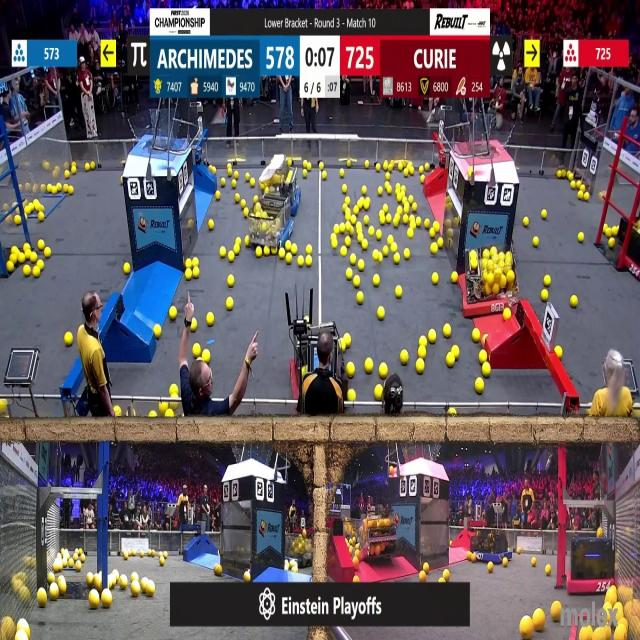ball_ground: (532, 611, 544, 632), (521, 618, 533, 638), (90, 592, 102, 609), (552, 602, 562, 620), (34, 588, 44, 606), (101, 592, 112, 608), (144, 582, 154, 597), (474, 379, 483, 394), (94, 574, 103, 589), (132, 584, 141, 598), (59, 581, 68, 595), (483, 362, 491, 377), (417, 359, 425, 374), (225, 296, 233, 310), (400, 350, 408, 364), (192, 344, 200, 358), (375, 385, 383, 399), (348, 362, 356, 376), (364, 358, 372, 372), (578, 629, 588, 640), (444, 324, 452, 337), (65, 334, 73, 347), (378, 307, 386, 320), (203, 350, 211, 363), (380, 363, 388, 376), (344, 335, 352, 348), (428, 331, 436, 344), (170, 308, 178, 320), (419, 347, 427, 359), (471, 331, 479, 343), (447, 354, 455, 366), (452, 346, 460, 358), (120, 580, 128, 592), (207, 313, 214, 326), (556, 346, 563, 359), (542, 276, 550, 287), (348, 389, 356, 400), (214, 564, 222, 575), (30, 252, 38, 263), (452, 273, 459, 285), (480, 351, 487, 363), (395, 286, 402, 298), (190, 318, 196, 332), (540, 289, 547, 301), (356, 291, 363, 303), (374, 275, 381, 287), (88, 572, 95, 584), (244, 571, 252, 581), (284, 253, 292, 263), (284, 242, 292, 252), (108, 575, 114, 588), (570, 295, 577, 306), (297, 255, 304, 266), (24, 267, 31, 278), (357, 261, 364, 272), (347, 269, 354, 280), (444, 569, 451, 580), (171, 384, 178, 395), (603, 223, 610, 234), (17, 252, 24, 263), (355, 222, 362, 233), (154, 325, 160, 337), (123, 264, 129, 276), (503, 309, 509, 321), (403, 248, 409, 260), (432, 274, 438, 286), (167, 410, 175, 419), (393, 215, 399, 227), (419, 570, 426, 580), (219, 247, 226, 257), (420, 337, 427, 347), (191, 269, 198, 279), (353, 277, 360, 287), (430, 244, 437, 254), (466, 552, 473, 562), (402, 204, 409, 214), (346, 222, 353, 232), (37, 212, 44, 222), (409, 214, 416, 224), (578, 233, 584, 244), (307, 255, 313, 266), (44, 247, 50, 258), (608, 238, 614, 249), (7, 263, 13, 274), (291, 243, 297, 254), (34, 268, 40, 279), (0, 398, 6, 409), (611, 225, 617, 236), (371, 250, 377, 261), (75, 561, 81, 572), (448, 410, 456, 418), (540, 210, 547, 219), (331, 223, 338, 232), (577, 182, 584, 191), (37, 262, 44, 271), (47, 573, 54, 582), (227, 276, 233, 286), (185, 270, 191, 280), (307, 245, 313, 255), (227, 252, 233, 262), (331, 239, 337, 249), (488, 562, 494, 572), (383, 246, 389, 256), (244, 237, 250, 247), (544, 564, 550, 574), (416, 218, 422, 228), (235, 244, 241, 254), (439, 239, 445, 249), (38, 240, 44, 250), (367, 225, 373, 235), (350, 254, 356, 264), (412, 203, 418, 213), (114, 408, 120, 418), (428, 230, 434, 240), (8, 254, 16, 261), (244, 175, 251, 183), (357, 236, 364, 244), (362, 241, 368, 250), (265, 247, 271, 256), (532, 238, 538, 247), (378, 186, 384, 195), (191, 257, 197, 266), (341, 223, 347, 232), (402, 214, 408, 223), (423, 563, 429, 572), (185, 258, 191, 267), (424, 219, 430, 228), (342, 184, 348, 193), (303, 170, 309, 179), (396, 193, 402, 202), (396, 206, 402, 215), (162, 402, 168, 411), (524, 216, 529, 226), (394, 253, 399, 263), (256, 247, 261, 257), (346, 238, 351, 248), (209, 220, 214, 230), (409, 230, 414, 240), (381, 214, 386, 224), (364, 200, 369, 210), (215, 190, 220, 200), (244, 208, 249, 218), (378, 252, 383, 262), (363, 216, 369, 224), (341, 247, 347, 255), (570, 181, 576, 189), (363, 162, 369, 170), (345, 214, 351, 222), (150, 412, 156, 420), (65, 184, 71, 192), (14, 216, 20, 224), (556, 170, 562, 178), (226, 168, 232, 176), (25, 244, 31, 252), (132, 572, 138, 580), (286, 160, 292, 168), (46, 184, 52, 192), (290, 565, 296, 573), (361, 185, 366, 194), (236, 192, 241, 201), (377, 232, 382, 241), (387, 185, 392, 194), (387, 214, 392, 223), (250, 178, 255, 187), (351, 215, 356, 224), (585, 191, 590, 200), (388, 236, 393, 245), (391, 244, 396, 253), (353, 575, 359, 582), (330, 233, 336, 240), (11, 247, 17, 254), (424, 165, 430, 172), (341, 170, 346, 178), (502, 559, 507, 567), (420, 175, 425, 183), (220, 178, 225, 186), (161, 558, 166, 566), (385, 173, 390, 181), (434, 222, 439, 230), (241, 200, 246, 208), (84, 163, 89, 171), (403, 170, 408, 178), (65, 171, 70, 179), (92, 163, 97, 171), (577, 190, 582, 198), (353, 207, 358, 215), (420, 167, 425, 175), (319, 163, 324, 171), (58, 183, 63, 191), (254, 194, 259, 202), (568, 172, 573, 180), (410, 168, 415, 176), (532, 558, 536, 567), (322, 172, 326, 181), (306, 162, 310, 171), (348, 545, 354, 551), (345, 198, 350, 205), (123, 554, 128, 561), (236, 238, 241, 245), (164, 553, 169, 560), (234, 172, 239, 179), (149, 552, 154, 559), (410, 194, 414, 202), (233, 180, 237, 188), (377, 165, 381, 173), (353, 559, 357, 567), (384, 164, 388, 172), (356, 552, 360, 560), (401, 184, 405, 192), (347, 162, 352, 168), (140, 552, 145, 558), (72, 168, 76, 175), (384, 205, 388, 212), (212, 166, 216, 173), (396, 183, 400, 190), (119, 177, 123, 184), (516, 549, 520, 555)
goal: (461, 118, 516, 158), (128, 115, 186, 151)
robot_blue: (473, 527, 509, 564), (282, 532, 312, 568)
robot_red: (463, 247, 516, 317), (566, 530, 616, 595), (249, 202, 298, 250), (361, 513, 397, 564), (622, 216, 640, 282)
